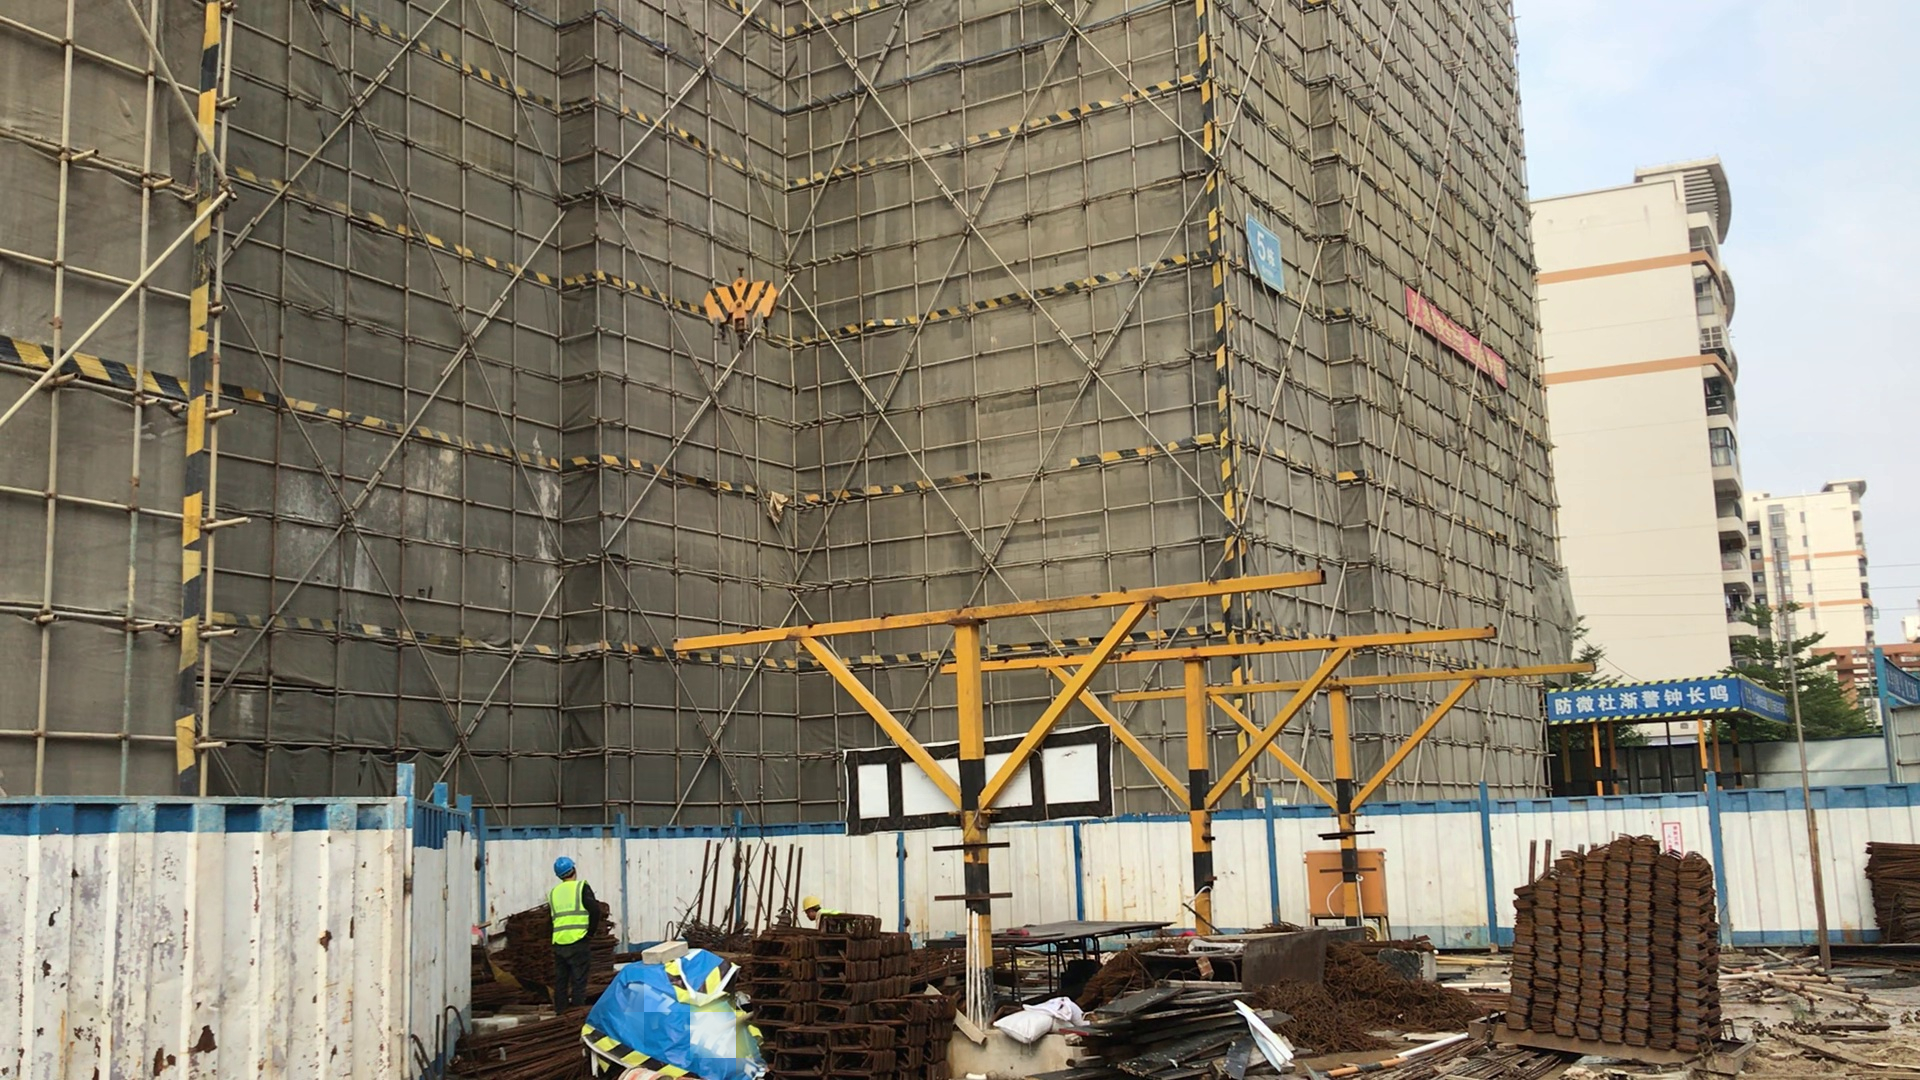helmet: (549, 857, 574, 873), (805, 894, 821, 912)
hook: (692, 259, 785, 343)
person: (548, 849, 595, 1013), (803, 891, 836, 929)
rebar: (458, 1006, 590, 1080), (1864, 820, 1916, 989)
slogan: (1391, 264, 1532, 385), (1554, 659, 1759, 727)
vest: (551, 878, 587, 942)
